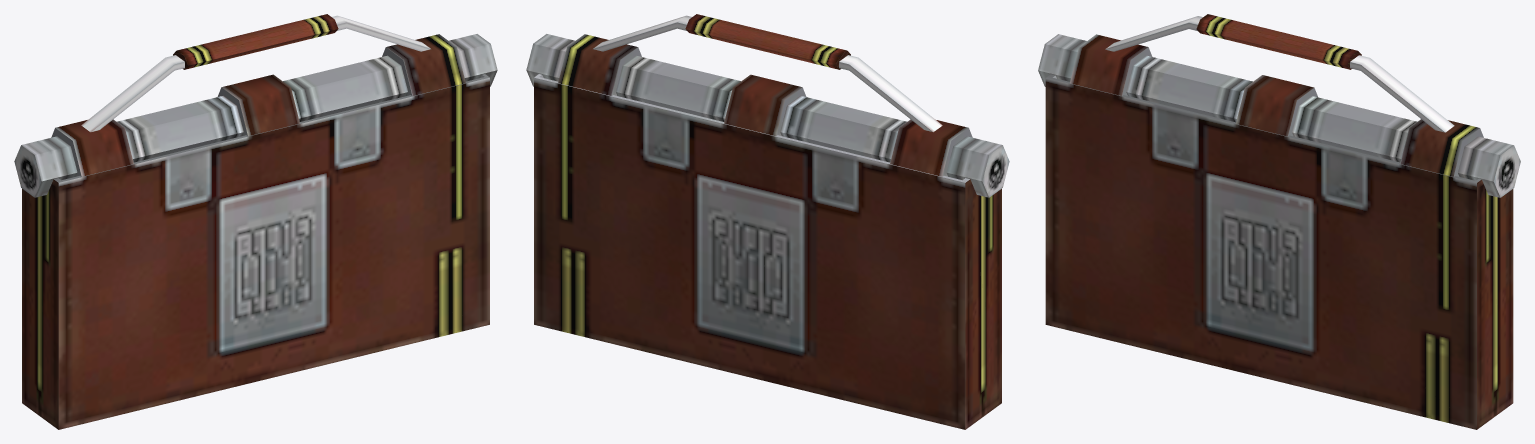
Rendered from thm_prp_briefcase_l0.fbx.
The picture shows the model from 3 angles, left to right: view 1: azimuth 30°, elevation 25°; view 2: azimuth 150°, elevation 25°; view 3: azimuth 330°, elevation 25°; orthographic projection.
Visible parts, largest first — view 1: mesh_node; view 2: mesh_node; view 3: mesh_node.
Part boxes in pixels (x1,y1,x2,y2): mesh_node: [14, 14, 497, 429]; mesh_node: [526, 14, 1009, 429]; mesh_node: [1038, 14, 1520, 429].
Size of the model in its own units: 0.4221 by 0.291 by 0.0586.
Materials: 1 (1 with a texture image).
